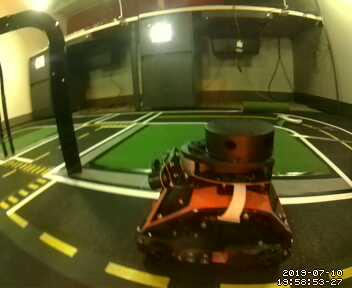pheeno: (136, 118, 294, 269)
